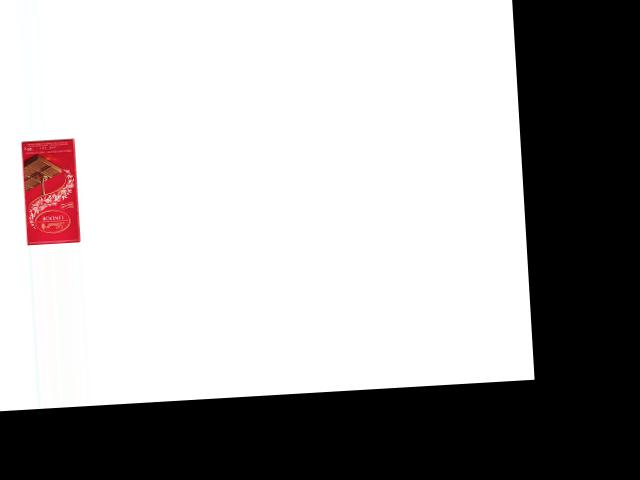chocolate: (15, 139, 82, 245)
